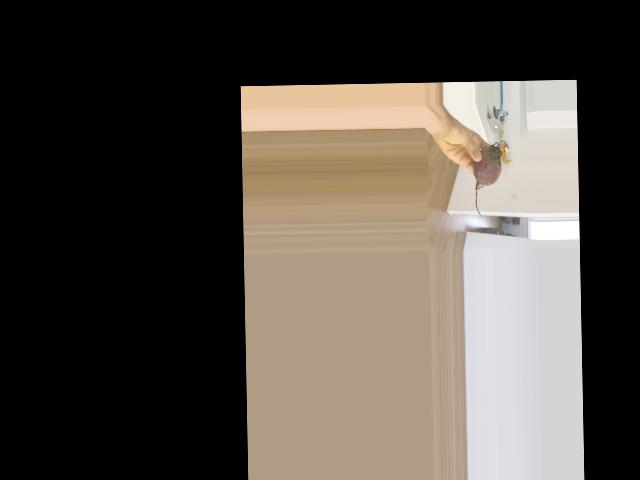beet: (472, 142, 503, 217)
